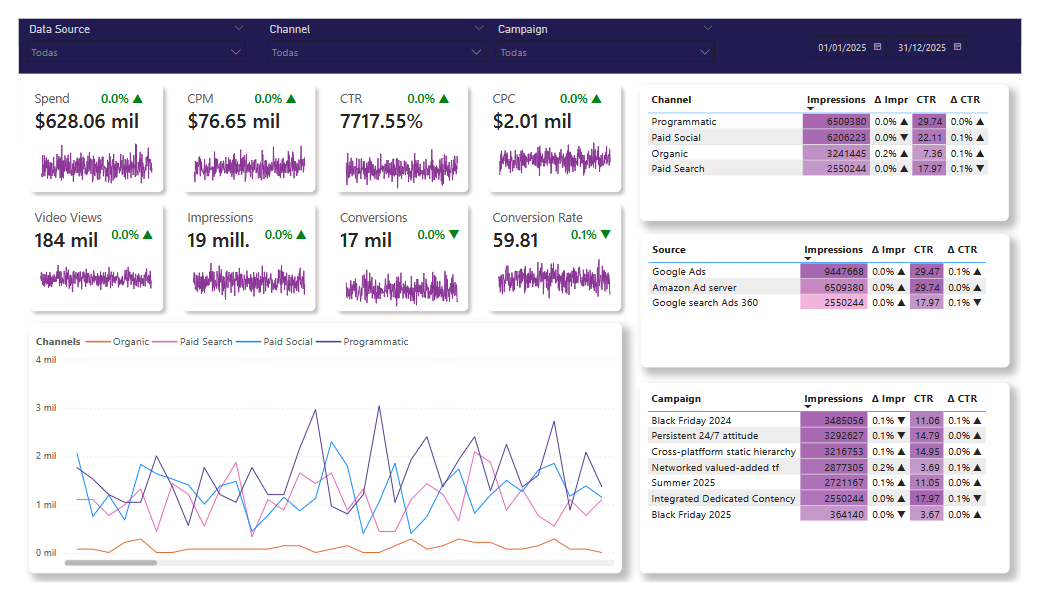

Layout of this report page (visuals, bound fields, positions):
{"tool":"powerbi","page":{"name":"Página 1","canvas":[1280,720],"ordinal":0},"visuals":[{"type":"cardVisual","fields":{"Data":["Cal.Spend","Cal.CPM","Cal.CTR","Cal.CPC"]},"box":[0,70,784.6,165.4],"z":0},{"type":"textbox","box":[0,0,1280,70],"z":1000},{"type":"lineChart","fields":{"Y":["Cal.Spend"],"Category":["Cal.Date"]},"box":[13.5,141.2,171.2,81.2],"z":2000},{"type":"lineChart","fields":{"Category":["Cal.Date"],"Y":["Cal.CPM"]},"box":[208.7,140.9,171.3,81.3],"z":3000},{"type":"cardVisual","fields":{"Data":["Cal.Δ CPM"]},"box":[294.2,84.2,85.8,33.3],"z":4000},{"type":"lineChart","fields":{"Category":["Cal.Date"],"Y":["Cal.CTR"]},"box":[403.3,140.5,171.4,81.4],"z":5000},{"type":"lineChart","fields":{"Category":["Cal.Date"],"Y":["Cal.CPC"]},"box":[598.7,140.4,171.3,81.3],"z":6000},{"type":"cardVisual","fields":{"Data":["Cal.Video Views","Cal.Impressions","Cal.Conversions","Cal.Conversion Rate"]},"box":[0,221.7,785,165.8],"z":7000},{"type":"lineChart","fields":{"Y":["Cal.Video Views"],"Category":["Cal.Date"]},"box":[13.3,292.5,171.2,81.2],"z":8000},{"type":"lineChart","fields":{"Category":["Cal.Date"],"Y":["Cal.Impressions"]},"box":[208.5,292.1,171.3,81.3],"z":9000},{"type":"lineChart","fields":{"Category":["Cal.Date"],"Y":["Cal.Conversions"]},"box":[403.1,291.8,171.4,81.4],"z":10000},{"type":"lineChart","fields":{"Category":["Cal.Date"],"Y":["Cal.Conversion Rate"]},"box":[598.5,291.7,171.3,81.3],"z":11000},{"type":"cardVisual","fields":{"Data":["Cal.Δ Spend"]},"box":[98.3,84.2,85.8,33.3],"z":12000},{"type":"cardVisual","fields":{"Data":["Cal.Δ CTR"]},"box":[489.2,84.2,85.8,33.3],"z":13000},{"type":"cardVisual","fields":{"Data":["Cal.Δ CPC"]},"box":[684.2,84.2,85.8,33.3],"z":14000},{"type":"cardVisual","fields":{"Data":["Cal.Δ Impr"]},"box":[307.1,257.1,72.9,33.6],"z":15000},{"type":"cardVisual","fields":{"Data":["Cal.Δ Views"]},"box":[111.4,257.1,72.9,33.6],"z":16000},{"type":"cardVisual","fields":{"Data":["Cal.Δ Conv."]},"box":[502.1,257.1,72.9,33.6],"z":17000},{"type":"cardVisual","fields":{"Data":["Cal.Δ CVR"]},"box":[697.9,257.1,72.1,33.6],"z":18000},{"type":"lineChart","fields":{"Category":["Cal.Date"],"Series":["channels.name"],"Y":["Sum(daily.revenue)"]},"box":[13.3,387.8,756.7,320],"z":19000},{"type":"tableEx","fields":{"Values":["channels.name","Sum(daily.impressions)","Cal.Δ Impr","Sum(daily.ctr)","Cal.Δ CTR"]},"box":[793.5,84.3,470.6,173.2],"z":20000},{"type":"tableEx","fields":{"Values":["data_sources.name","Sum(daily.impressions)","Cal.Δ Impr","Sum(daily.ctr)","Cal.Δ CTR"]},"box":[794,275,471,170],"z":21000},{"type":"tableEx","fields":{"Values":["campaigns.name","Cal.Impressions","Cal.Δ Impr","Cal.CTR","Cal.Δ CTR"]},"box":[793,465,472,243],"z":22000},{"type":"slicer","fields":{"Values":["Cal.Date"]},"box":[999,12,230,46],"z":23000},{"type":"slicer","fields":{"Values":["data_sources.name"]},"box":[0,0,300,70],"z":24000},{"type":"slicer","fields":{"Values":["channels.name"]},"box":[307,0,300,70],"z":25000},{"type":"slicer","fields":{"Values":["campaigns.name"]},"box":[599,0,300,70],"z":26000}]}

Visuals, with their boxes in screenshot pixels (x1, y1, x2, y2), scaled from the page's 1280x720 canvas onto the 1040x601 screenshot:
cardVisual - Cal.Spend x Cal.CPM: bbox=(0, 58, 637, 196)
textbox: bbox=(0, 0, 1039, 58)
lineChart - Cal.Spend x Cal.Date: bbox=(11, 118, 150, 186)
lineChart - Cal.Date x Cal.CPM: bbox=(170, 118, 309, 185)
cardVisual - Cal.Δ CPM: bbox=(239, 70, 309, 98)
lineChart - Cal.Date x Cal.CTR: bbox=(328, 117, 467, 185)
lineChart - Cal.Date x Cal.CPC: bbox=(486, 117, 626, 185)
cardVisual - Cal.Video Views x Cal.Impressions: bbox=(0, 185, 638, 323)
lineChart - Cal.Video Views x Cal.Date: bbox=(11, 244, 150, 312)
lineChart - Cal.Date x Cal.Impressions: bbox=(169, 244, 309, 312)
lineChart - Cal.Date x Cal.Conversions: bbox=(328, 244, 467, 312)
lineChart - Cal.Date x Cal.Conversion Rate: bbox=(486, 243, 625, 311)
cardVisual - Cal.Δ Spend: bbox=(80, 70, 150, 98)
cardVisual - Cal.Δ CTR: bbox=(397, 70, 467, 98)
cardVisual - Cal.Δ CPC: bbox=(556, 70, 626, 98)
cardVisual - Cal.Δ Impr: bbox=(250, 215, 309, 243)
cardVisual - Cal.Δ Views: bbox=(91, 215, 150, 243)
cardVisual - Cal.Δ Conv.: bbox=(408, 215, 467, 243)
cardVisual - Cal.Δ CVR: bbox=(567, 215, 626, 243)
lineChart - Cal.Date x channels.name: bbox=(11, 324, 626, 591)
tableEx - channels.name x Sum(daily.impressions): bbox=(645, 70, 1027, 215)
tableEx - data_sources.name x Sum(daily.impressions): bbox=(645, 230, 1028, 371)
tableEx - campaigns.name x Cal.Impressions: bbox=(644, 388, 1028, 591)
slicer - Cal.Date: bbox=(812, 10, 999, 48)
slicer - data_sources.name: bbox=(0, 0, 244, 58)
slicer - channels.name: bbox=(249, 0, 493, 58)
slicer - campaigns.name: bbox=(487, 0, 730, 58)
